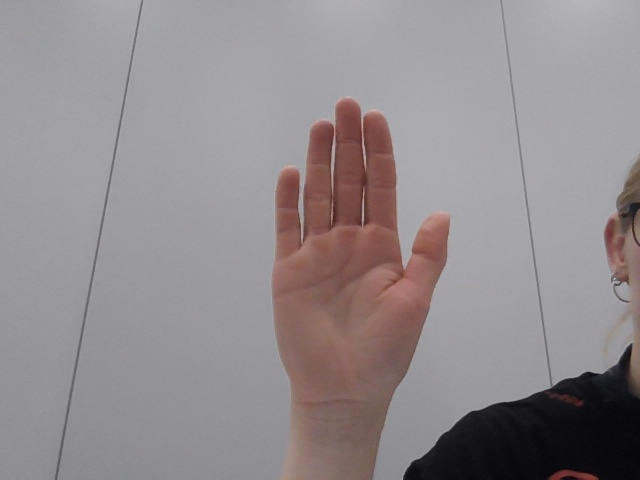nada: (144, 66, 533, 455)
